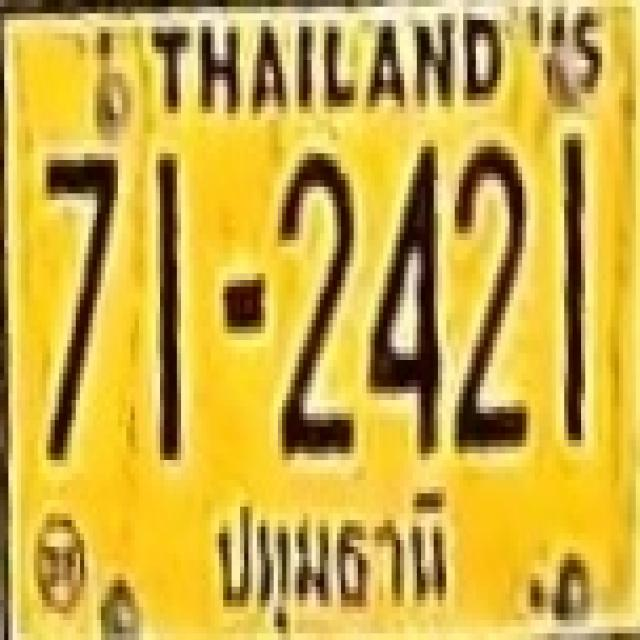1: (154, 150, 179, 457), (560, 133, 582, 440)
2: (276, 147, 352, 453), (451, 140, 522, 447)
4: (366, 140, 438, 447)
7: (42, 150, 114, 457)
PTE: (210, 473, 455, 640)
